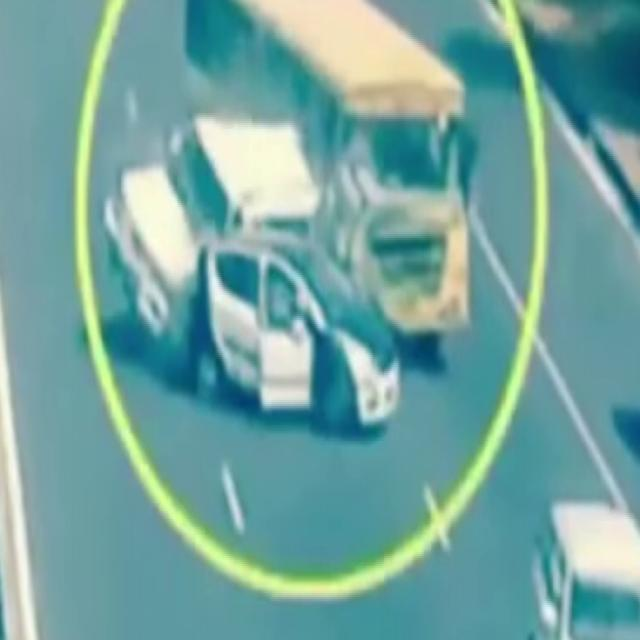accident: (124, 117, 404, 462)
